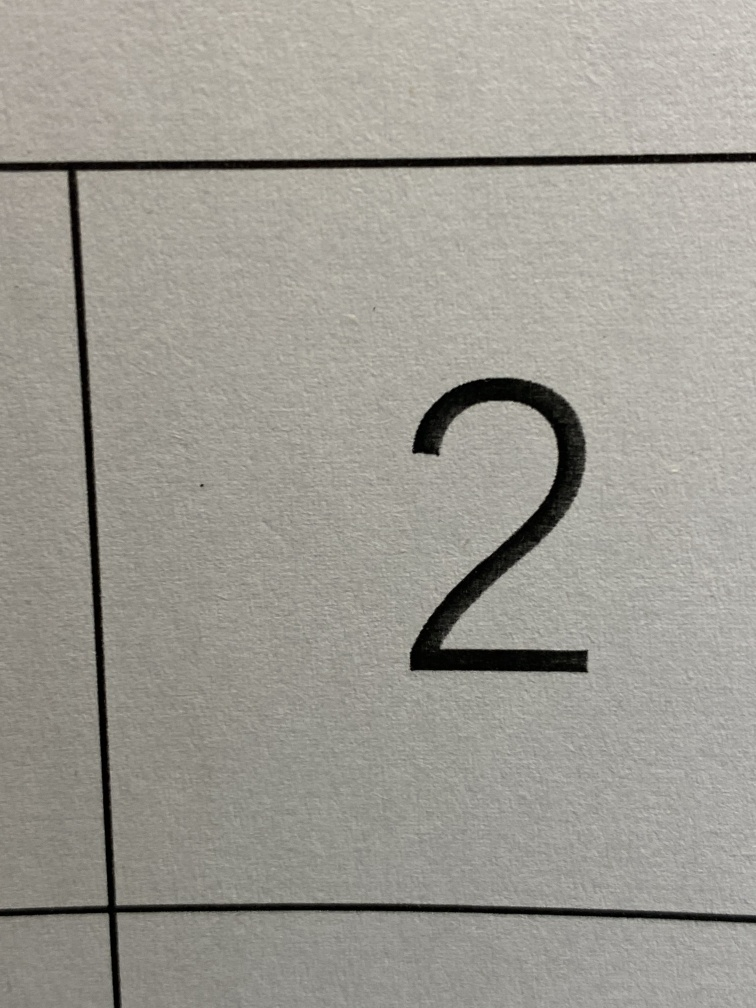two: (348, 333, 654, 746)
